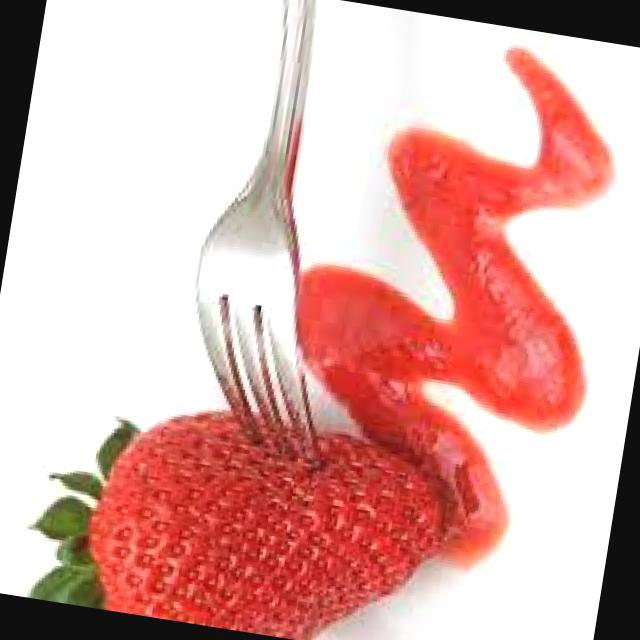strawberry: (35, 376, 461, 640)
